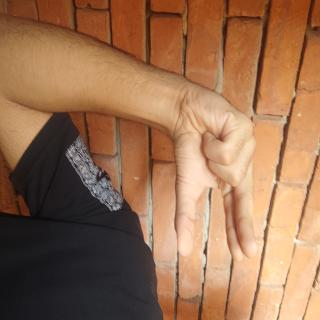DHELL: (55, 75, 199, 209)
